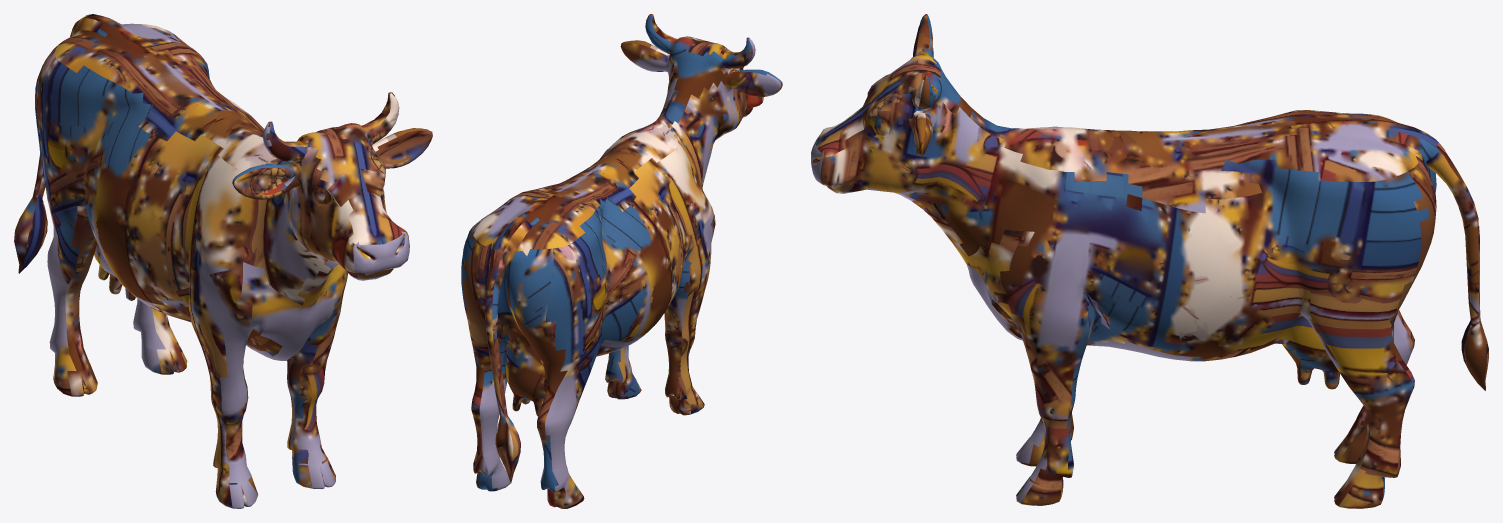
File: vaca Lista para usar.fbx
The picture shows the model from 3 angles, left to right: view 1: azimuth 30°, elevation 25°; view 2: azimuth 150°, elevation 25°; view 3: azimuth 270°, elevation 25°; orthographic projection. The views are drawn at different scales.
Parts seen in each view (by area): view 1: mesh_rep_0_ori_repair_quad; view 2: mesh_rep_0_ori_repair_quad; view 3: mesh_rep_0_ori_repair_quad.
Part boxes in pixels (box(x1,y1,x2,y2)): mesh_rep_0_ori_repair_quad: box(14, 14, 432, 508); mesh_rep_0_ori_repair_quad: box(461, 14, 782, 508); mesh_rep_0_ori_repair_quad: box(811, 14, 1488, 508).
Bounding box in the file's own units: 252 × 511 × 720.
